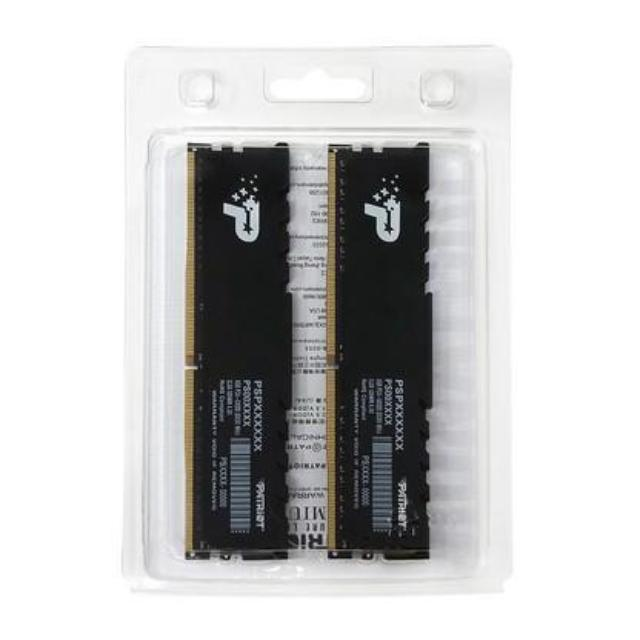RAM: (177, 131, 300, 566), (322, 139, 432, 564)
